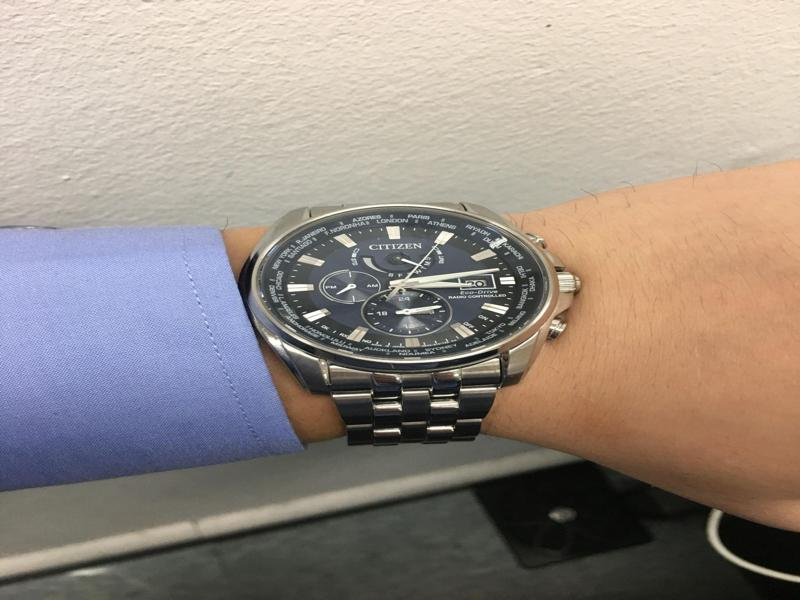watch: (240, 200, 583, 451)
